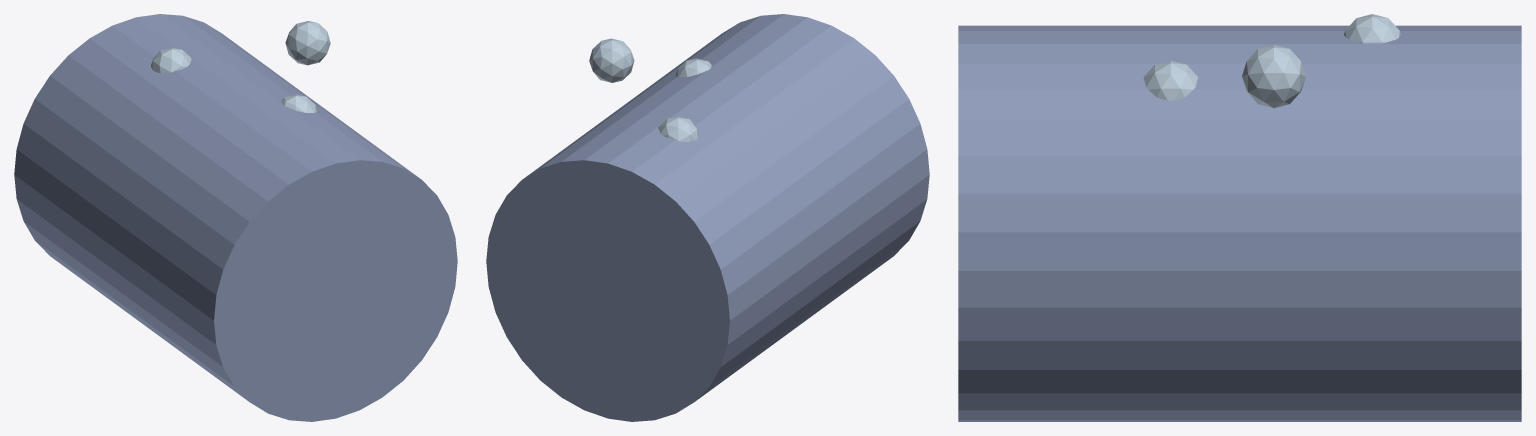
The model's file is storm_spawn.glb.
The picture shows the model from 3 angles, left to right: view 1: azimuth 30°, elevation 25°; view 2: azimuth 150°, elevation 25°; view 3: azimuth 270°, elevation 25°; orthographic projection. The views are drawn at different scales.
Visible parts, largest first — view 1: geometry_0; view 2: geometry_0; view 3: geometry_0.
Part boxes in pixels (bbox=[...]): geometry_0: bbox=[14, 14, 457, 421]; geometry_0: bbox=[486, 14, 929, 421]; geometry_0: bbox=[958, 14, 1521, 421].
Bounding box in the file's own units: 0.62 × 0.7137 × 0.88.
